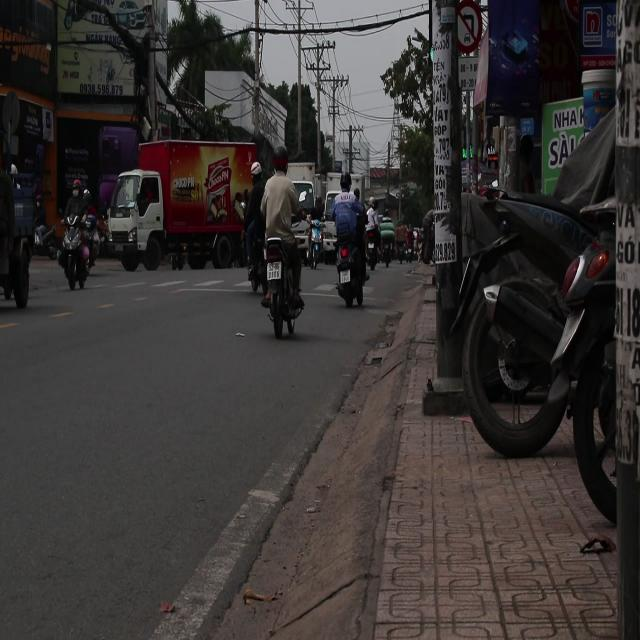motorbike: (260, 223, 307, 339), (56, 210, 94, 290), (333, 222, 368, 306), (362, 212, 382, 279), (304, 220, 324, 269)
truck: (138, 138, 263, 272), (105, 172, 166, 274), (277, 144, 322, 270), (321, 159, 362, 277)
